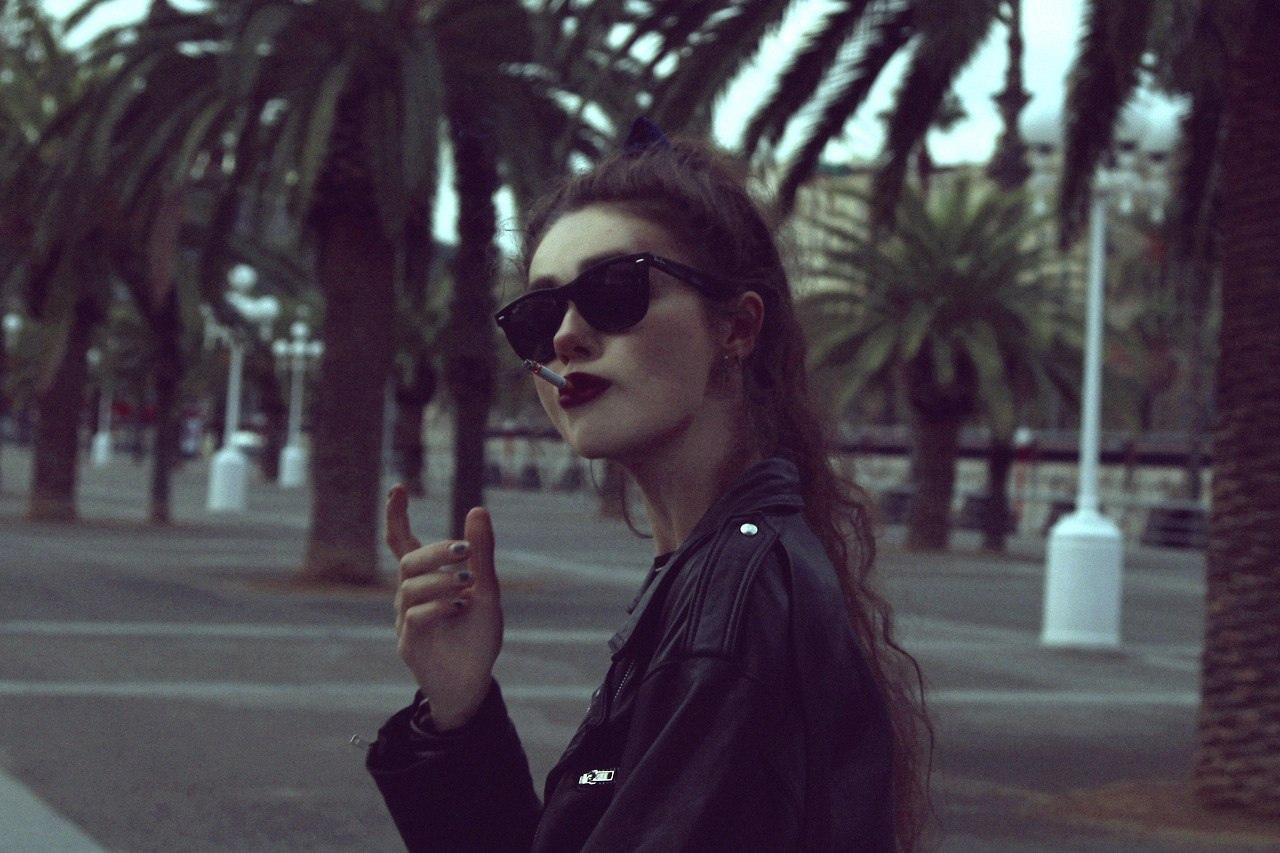cigarette: (522, 359, 579, 394)
